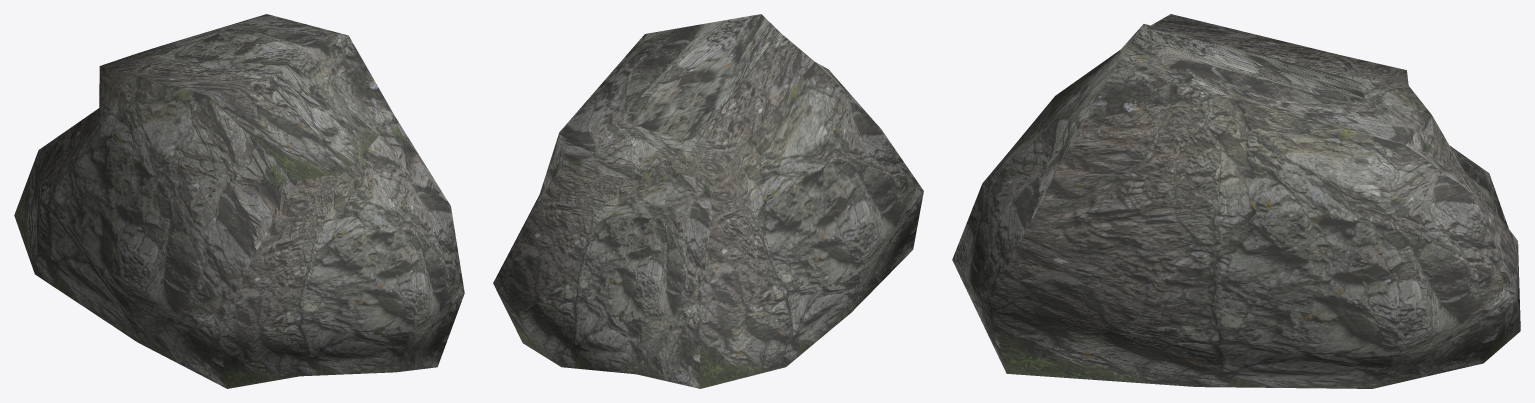
3 renders of one model, left to right at view 1: azimuth 30°, elevation 25°; view 2: azimuth 150°, elevation 25°; view 3: azimuth 270°, elevation 25°, orthographic. The views are drawn at different scales.
Visible parts, largest first — view 1: Pedra3; view 2: Pedra3; view 3: Pedra3.
Boxes of the visible parts, x1,y1,x2,y2 form: Pedra3: (14,14,464,388); Pedra3: (493,14,923,388); Pedra3: (952,14,1520,388).
Bounding box in the file's own units: 279 × 255 × 432.
Materials: 1 (1 with a texture image).
